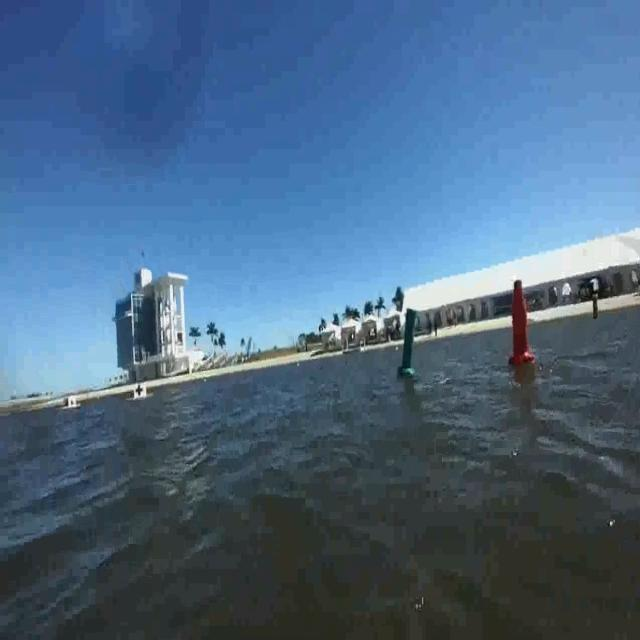green-column-buoy: (397, 306, 418, 378)
red-column-buoy: (508, 276, 536, 366)
